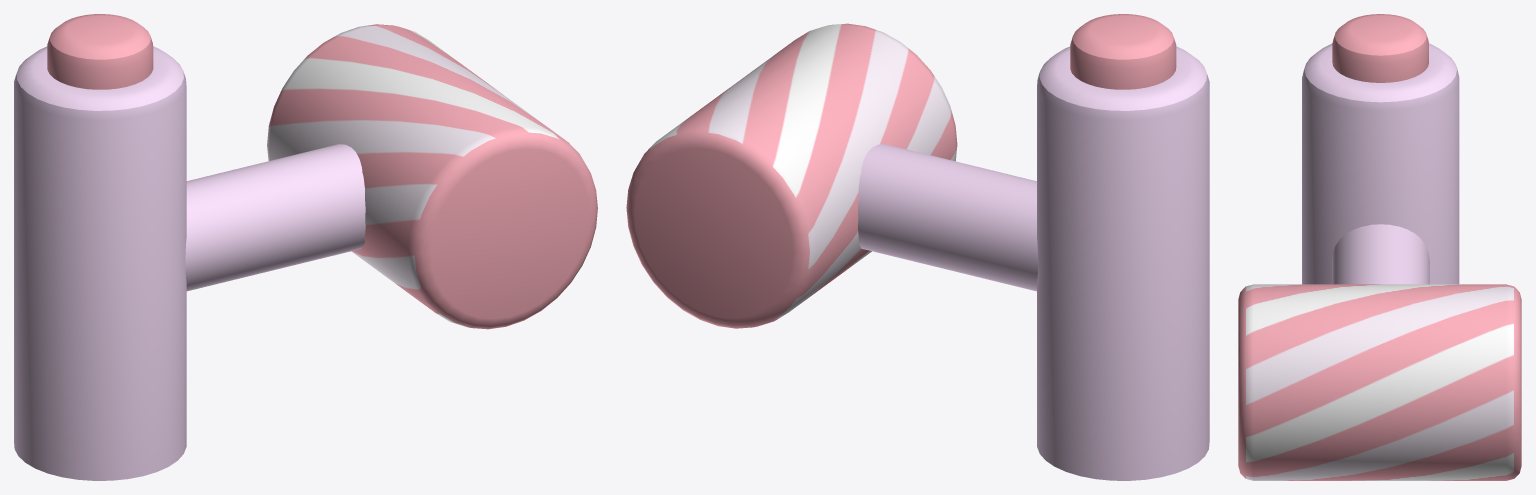
The model's file is Rotating_Hummer.fbx.
The picture shows the model from 3 angles, left to right: view 1: azimuth 30°, elevation 25°; view 2: azimuth 150°, elevation 25°; view 3: azimuth 270°, elevation 25°; orthographic projection. The views are drawn at different scales.
Visible parts, largest first — view 1: Rotating_Hummer_Head, Rotatin_Hummer_Base; view 2: Rotating_Hummer_Head, Rotatin_Hummer_Base; view 3: Rotating_Hummer_Head, Rotatin_Hummer_Base.
Part boxes in pixels (bbox=[...]): Rotating_Hummer_Head: bbox=[185, 24, 597, 329]; Rotatin_Hummer_Base: bbox=[14, 14, 186, 480]; Rotating_Hummer_Head: bbox=[626, 23, 1038, 328]; Rotatin_Hummer_Base: bbox=[1037, 14, 1209, 480]; Rotating_Hummer_Head: bbox=[1238, 224, 1521, 480]; Rotatin_Hummer_Base: bbox=[1302, 14, 1459, 284].
Size of the model in its own units: 260 by 206 by 140.
